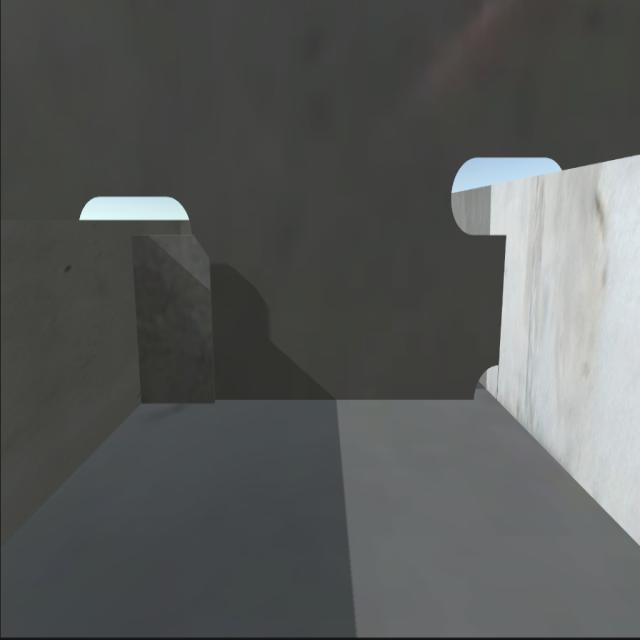fillet_hole: (466, 357, 503, 405)
fillet_yong_jeop_jang: (134, 380, 476, 409)
longi_yong_jeop_jang: (478, 229, 520, 367), (122, 238, 155, 400)
plate_CP01: (134, 235, 220, 407)
